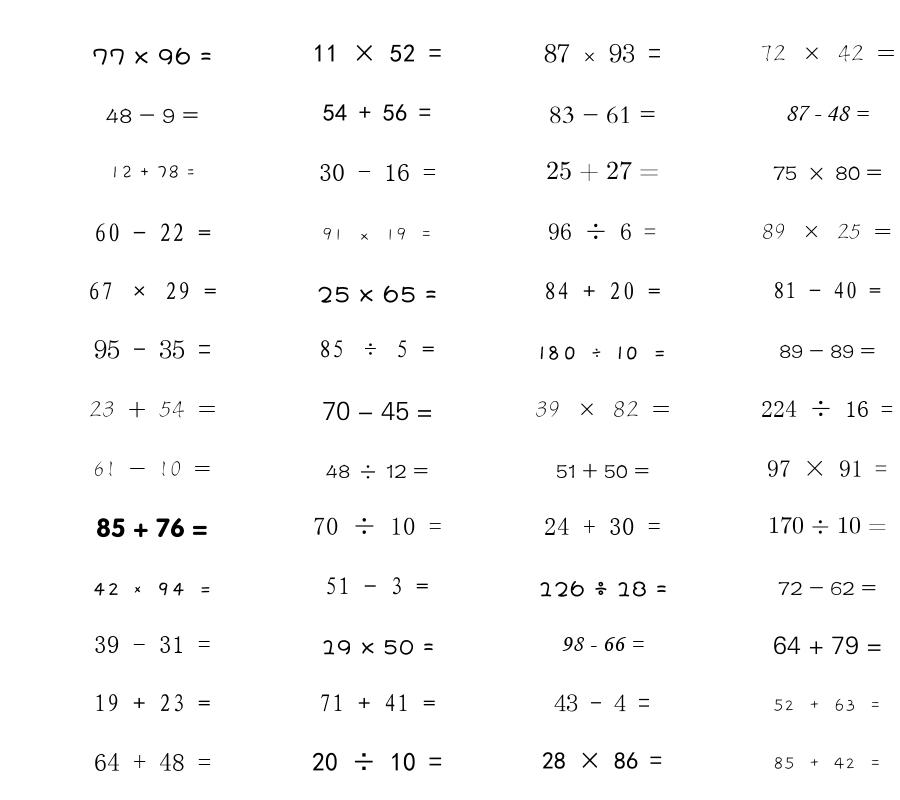MQ: (312, 752, 442, 772), (760, 44, 895, 62), (546, 161, 659, 182), (544, 43, 661, 63), (94, 339, 211, 359), (313, 44, 442, 62), (88, 282, 217, 300), (313, 517, 442, 535), (89, 400, 216, 418), (761, 400, 893, 417), (96, 518, 208, 538), (94, 223, 211, 242), (322, 401, 433, 421), (538, 580, 667, 597), (92, 47, 212, 65), (317, 285, 437, 303), (535, 401, 670, 417), (768, 516, 887, 534), (544, 282, 661, 300), (544, 517, 661, 535), (94, 694, 211, 712), (319, 694, 436, 712), (94, 753, 211, 771), (319, 340, 435, 358), (762, 223, 892, 239), (773, 636, 882, 655), (767, 460, 887, 477), (542, 752, 662, 769), (319, 164, 436, 181), (94, 636, 211, 653), (773, 281, 881, 299), (538, 345, 667, 360), (549, 106, 656, 124), (93, 461, 211, 477), (325, 577, 429, 595), (323, 104, 431, 121), (548, 223, 656, 240), (321, 639, 434, 655), (554, 694, 650, 712), (92, 582, 212, 596), (322, 227, 433, 241), (326, 464, 428, 479), (773, 166, 882, 180), (773, 698, 882, 712), (106, 108, 199, 124), (556, 463, 649, 479), (773, 757, 882, 770), (778, 581, 876, 595), (785, 105, 869, 121), (779, 344, 875, 358), (109, 165, 196, 179), (561, 637, 644, 651)
